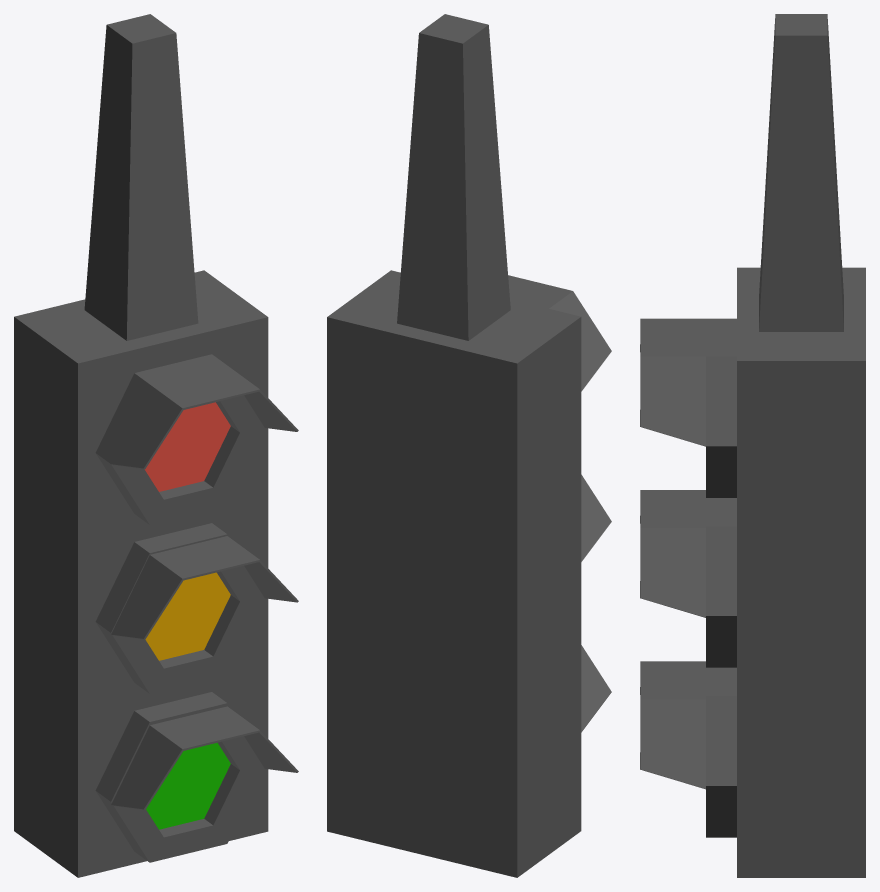
File: traffic_05.fbx
3 views of the same model, side by side, from view 1: azimuth 30°, elevation 25°; view 2: azimuth 150°, elevation 25°; view 3: azimuth 270°, elevation 25° (orthographic).
Visible parts, largest first — view 1: Cube, Cube.001, Cube.006, Cube.002; view 2: Cube, Cube.006, Cube.002; view 3: Cube, Cube.002, Cube.006, Cube.001.
Boxes of the visible parts, left/top/right/bottom form: Cube: left=14, top=270, right=268, bottom=877; Cube.001: left=95, top=354, right=265, bottom=862; Cube.006: left=84, top=14, right=198, bottom=340; Cube.002: left=111, top=365, right=298, bottom=809; Cube: left=327, top=270, right=581, bottom=877; Cube.006: left=397, top=14, right=510, bottom=340; Cube.002: left=508, top=275, right=611, bottom=732; Cube: left=737, top=267, right=865, bottom=877; Cube.002: left=640, top=318, right=705, bottom=789; Cube.006: left=759, top=14, right=843, bottom=331; Cube.001: left=706, top=318, right=736, bottom=837.
Bounding box in the file's own units: 51.12 × 206 × 52.25.
